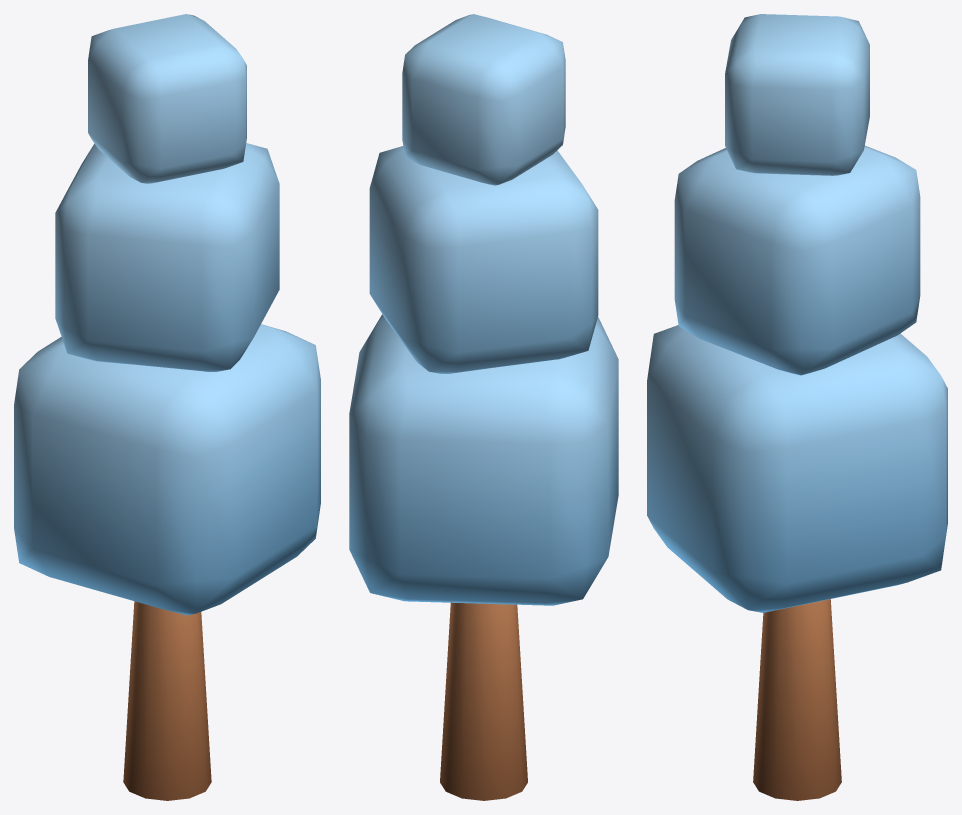
The model's file is lpb_tree_6_d.fbx.
3 renders of one model, left to right at view 1: azimuth 30°, elevation 25°; view 2: azimuth 150°, elevation 25°; view 3: azimuth 270°, elevation 25°, orthographic.
Parts seen in each view (by area): view 1: ap_tree_6.003; view 2: ap_tree_6.003; view 3: ap_tree_6.003.
Part boxes in pixels (x1,y1,x2,y2): ap_tree_6.003: (14,14,320,800); ap_tree_6.003: (349,14,618,800); ap_tree_6.003: (647,14,947,800).
Bounding box in the file's own units: 185 × 508 × 185.
